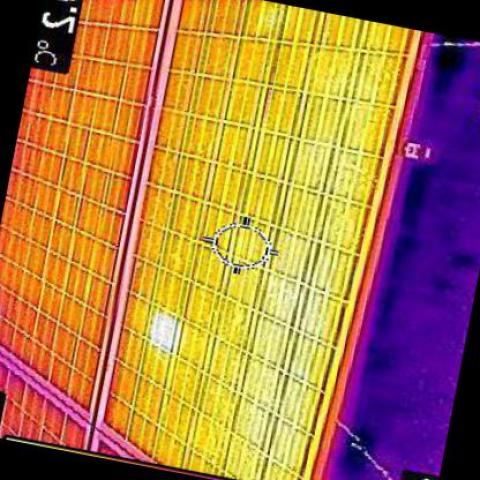fault: (153, 312, 179, 339)
